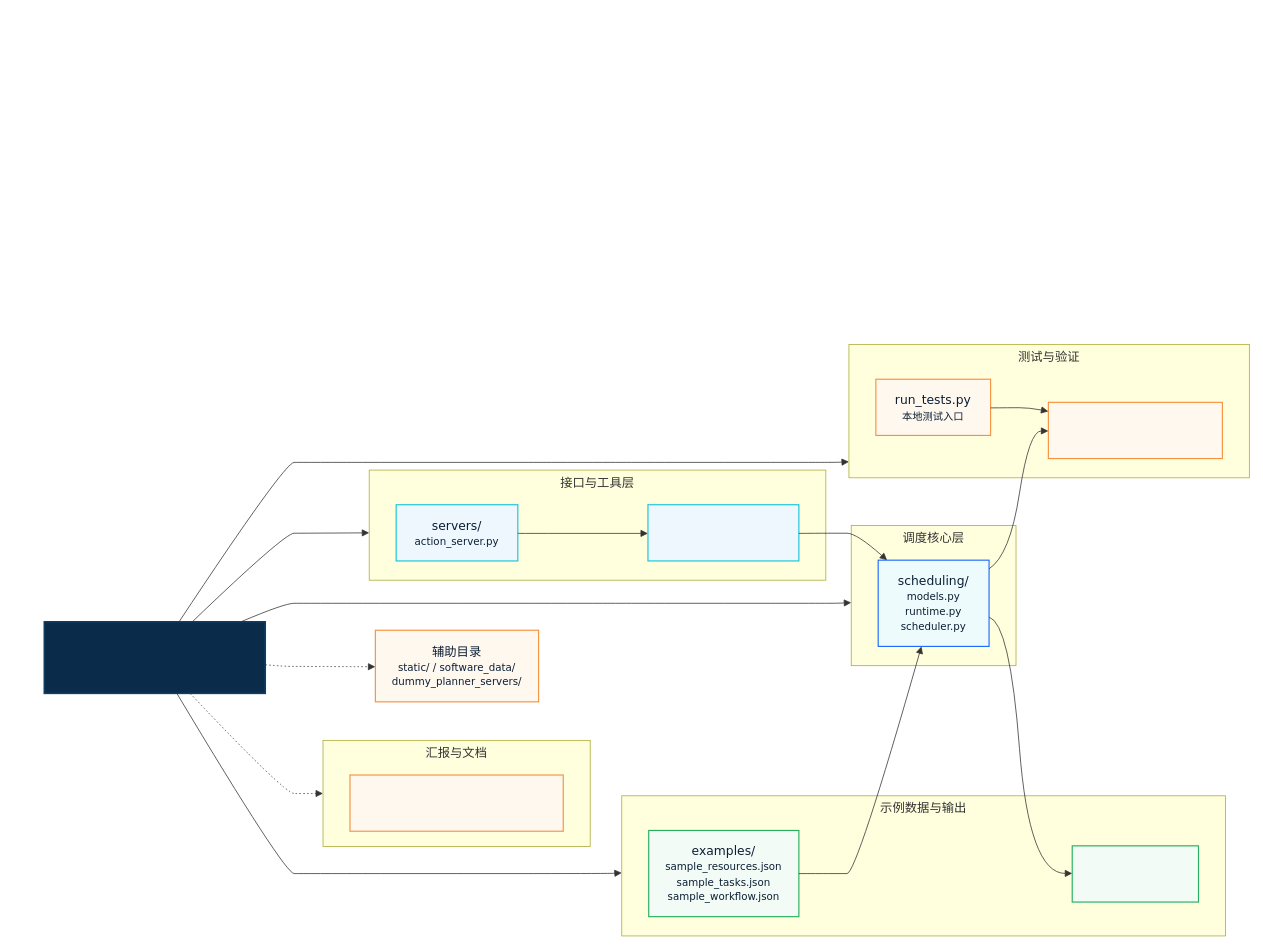
The diagram is 1263 pixels wide and 949 high, and some of its shapes have lost their labels. The shapes that lost their labels are listed below. From the top down, each one's centre as x and y in pixels, then its label:
At (x=1135, y=430): "tests/ test_scheduling_runtime.py".
At (x=723, y=532): "tools/ action_server_tools.py".
At (x=154, y=657): "AIChemMCP-main/ 核心原型工程目录 demo.py / run_tests.py / README.md".
At (x=456, y=802): "docs/ppt/final/ pptx / speech.md / preview_images".
At (x=1135, y=873): "outputs/ demo_result.json".
